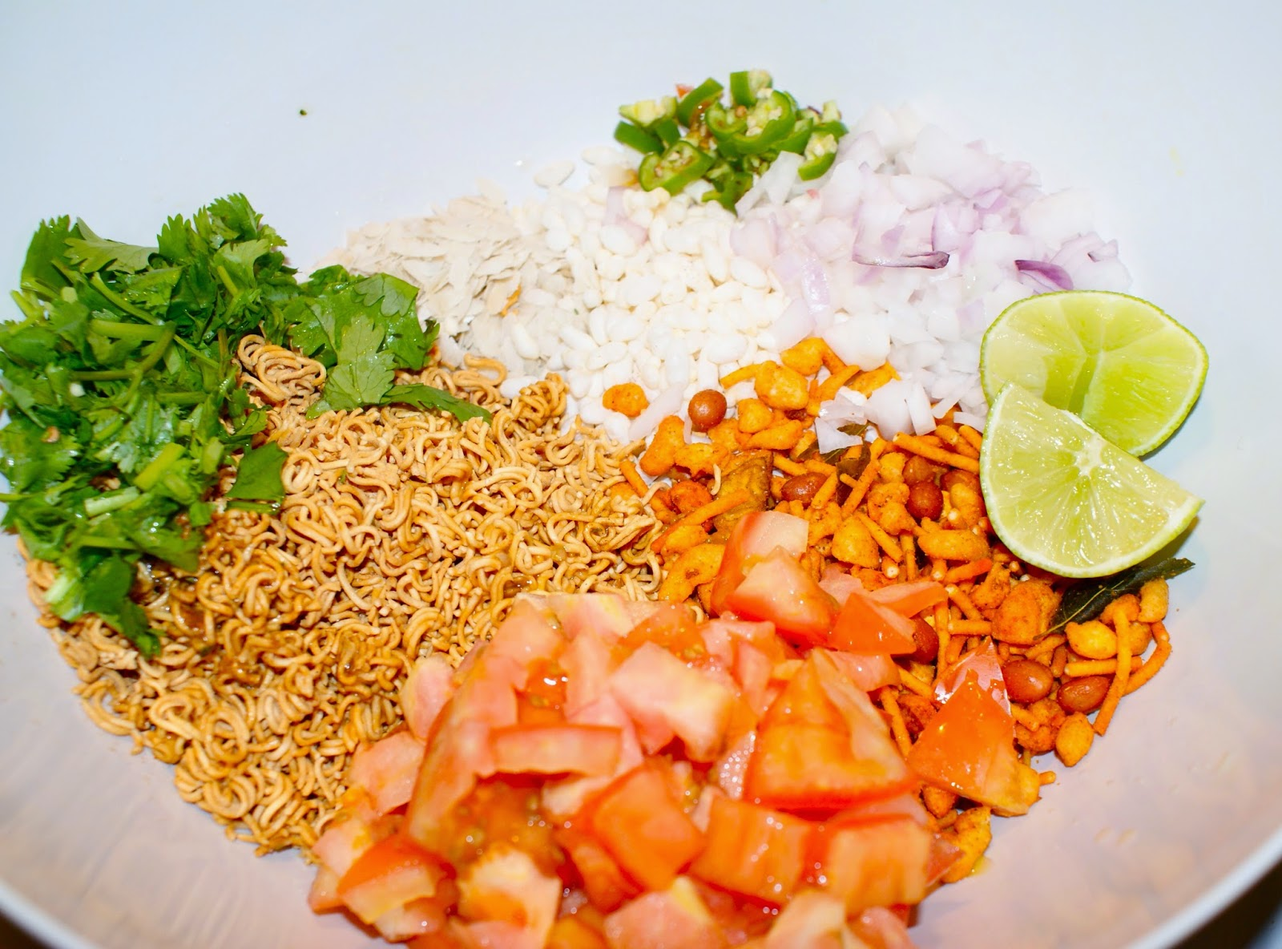chatpate: (70, 230, 1158, 850)
